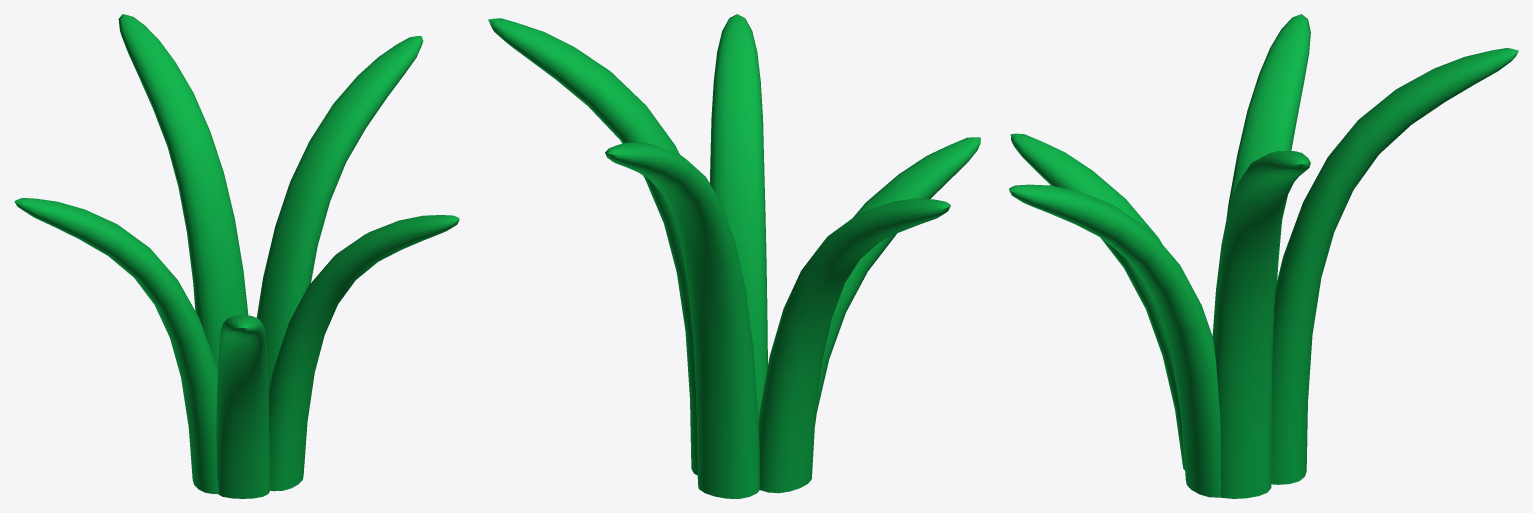
The model's file is Town_14_Grass_2.glb.
The picture shows the model from 3 angles, left to right: view 1: azimuth 30°, elevation 25°; view 2: azimuth 150°, elevation 25°; view 3: azimuth 270°, elevation 25°; orthographic projection. The views are drawn at different scales.
Visible parts, largest first — view 1: Town_14_Grass_2; view 2: Town_14_Grass_2; view 3: Town_14_Grass_2.
Boxes of the visible parts, x1,y1,x2,y2 form: Town_14_Grass_2: (14,14,459,498); Town_14_Grass_2: (488,14,980,498); Town_14_Grass_2: (1009,14,1518,498).
Bounding box in the file's own units: 0.704 × 0.618 × 0.6738.
Materials: 1 (1 with a texture image).
